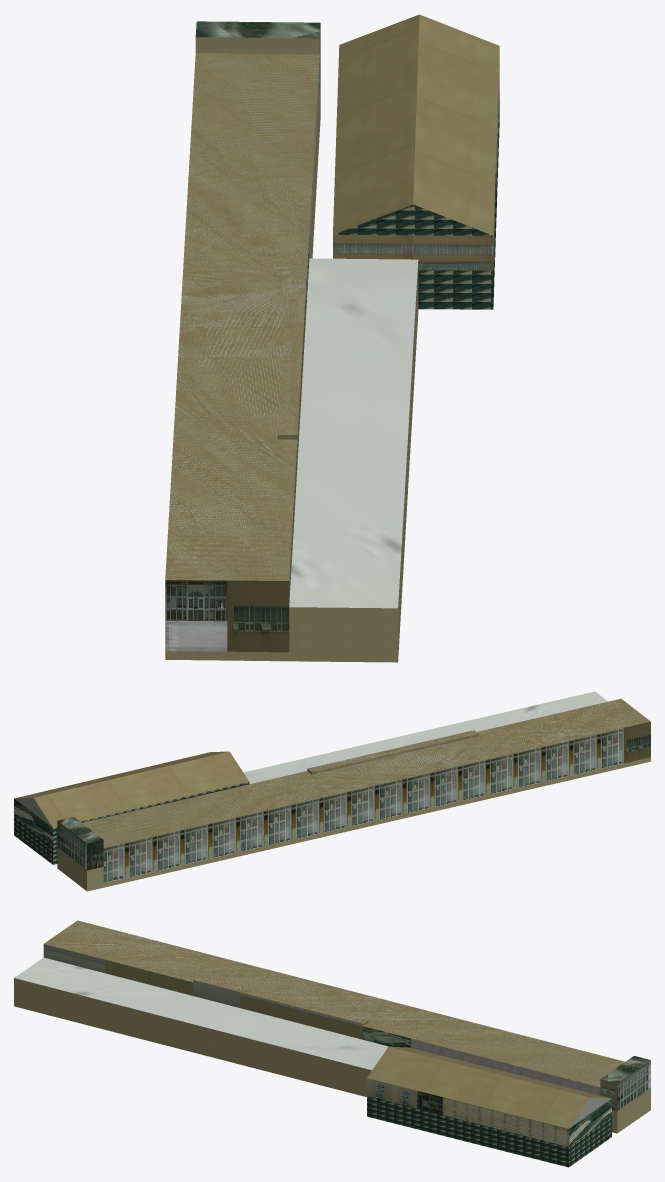
3 renders of one model, top to bottom at view 1: azimuth 30°, elevation 25°; view 2: azimuth 150°, elevation 25°; view 3: azimuth 270°, elevation 25°, orthographic. The views are drawn at different scales.
Visible parts, largest first — view 1: SketchUp (×13); view 2: SketchUp (×13); view 3: SketchUp (×21).
Boxes of the visible parts, <box> form: SketchUp (×13): <box>165,14,499,662</box>; SketchUp (×13): <box>14,691,650,891</box>; SketchUp (×21): <box>14,920,650,1167</box>.
Size of the model in its own units: 3357 by 4402 by 419.
